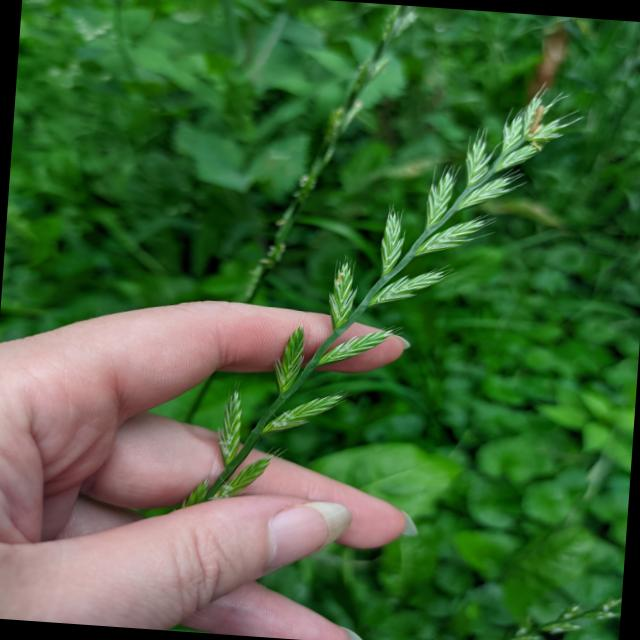Lolium: (144, 56, 588, 542), (193, 0, 419, 412)
